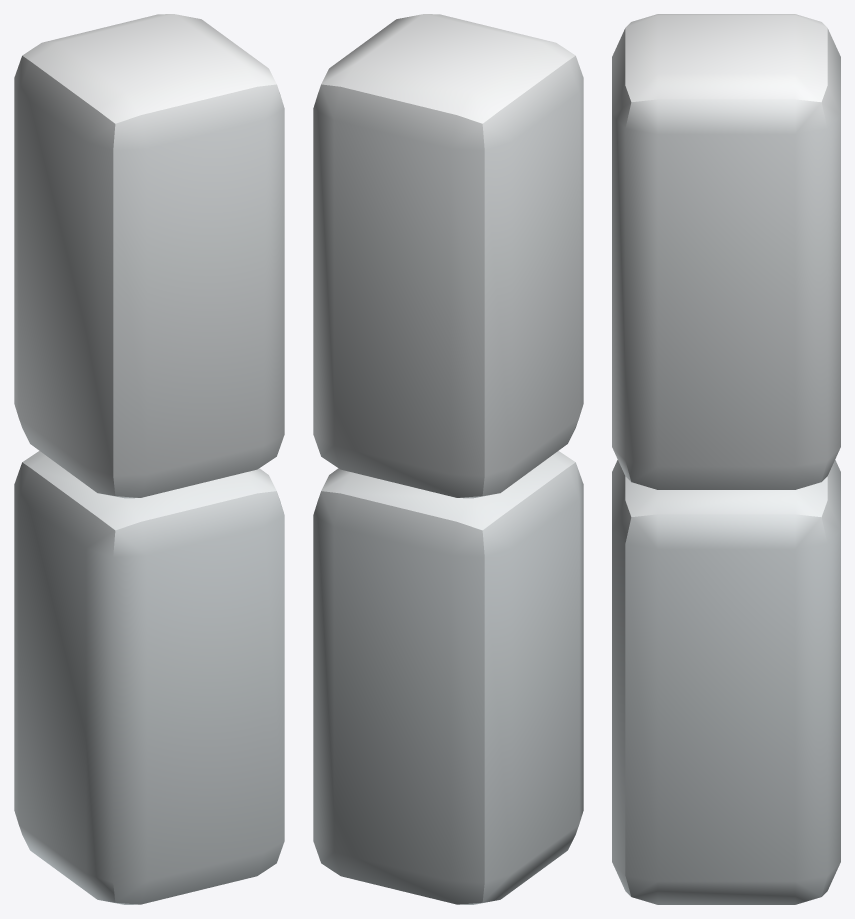
Rendered from barrier_1x1x4.glb.
3 views of the same model, side by side, from view 1: azimuth 30°, elevation 25°; view 2: azimuth 150°, elevation 25°; view 3: azimuth 270°, elevation 25° (orthographic). The views are drawn at different scales.
Visible parts, largest first — view 1: barrier_1x1x4; view 2: barrier_1x1x4; view 3: barrier_1x1x4.
Part boxes in pixels (x1,y1,x2,y2): barrier_1x1x4: (14, 14, 284, 904); barrier_1x1x4: (313, 14, 583, 904); barrier_1x1x4: (612, 14, 840, 904).
Size of the model in its own units: 1 by 4 by 1.
Materials: 1 (1 with a texture image).
